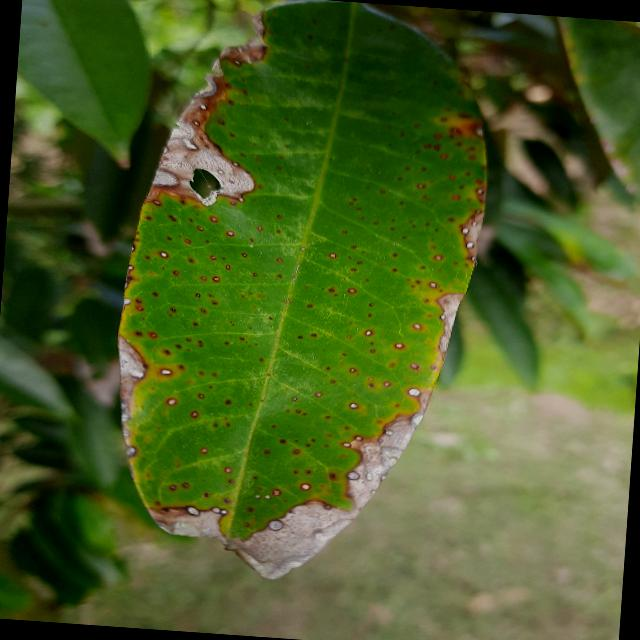Leaf Spot: (97, 0, 516, 600)
